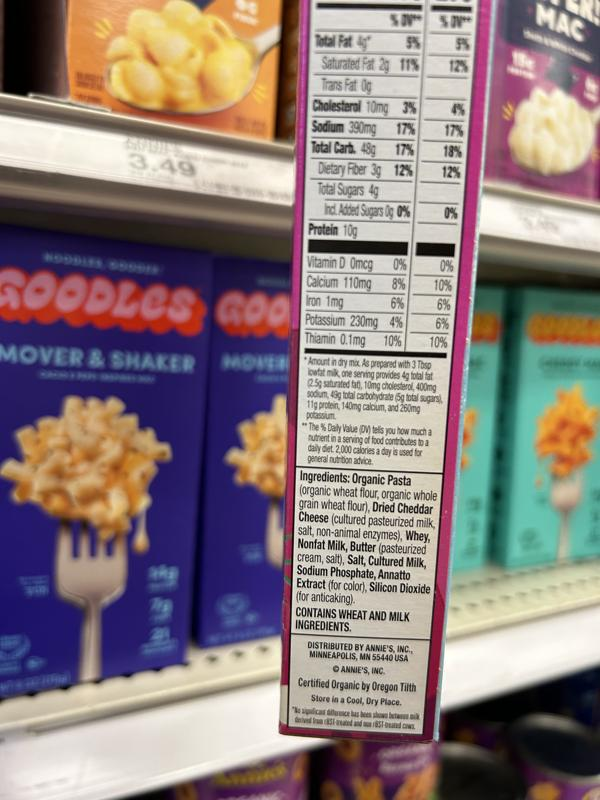ingredients: (295, 468, 440, 606)
